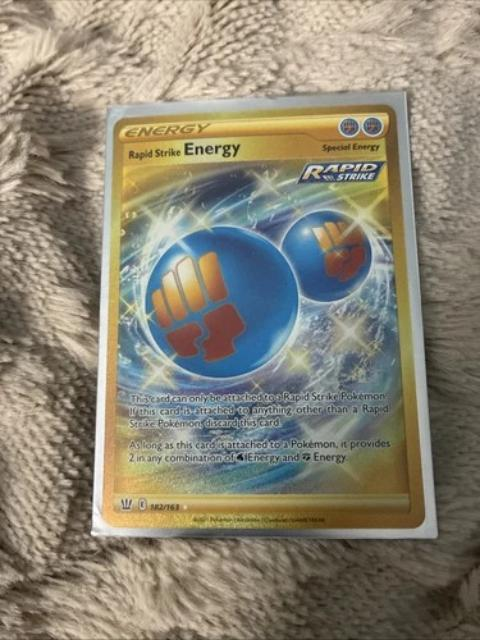Card: (97, 100, 430, 534)
Name: (120, 135, 249, 165)
